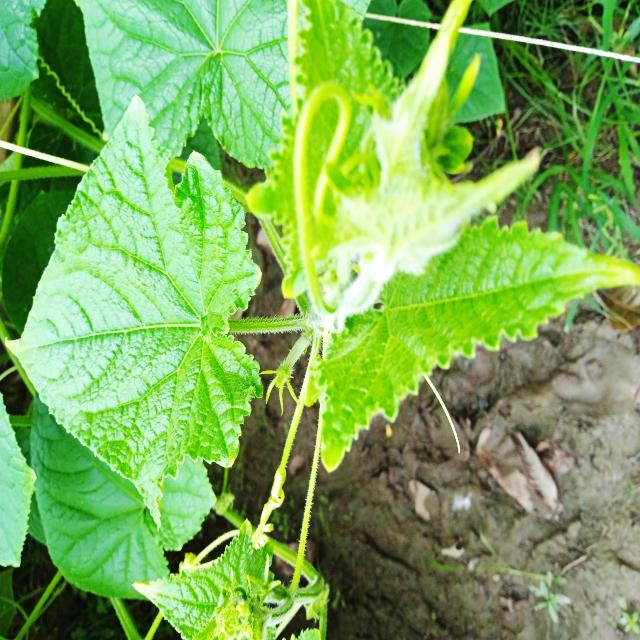Fresh-Leaf: (3, 93, 265, 537), (300, 219, 640, 475)
